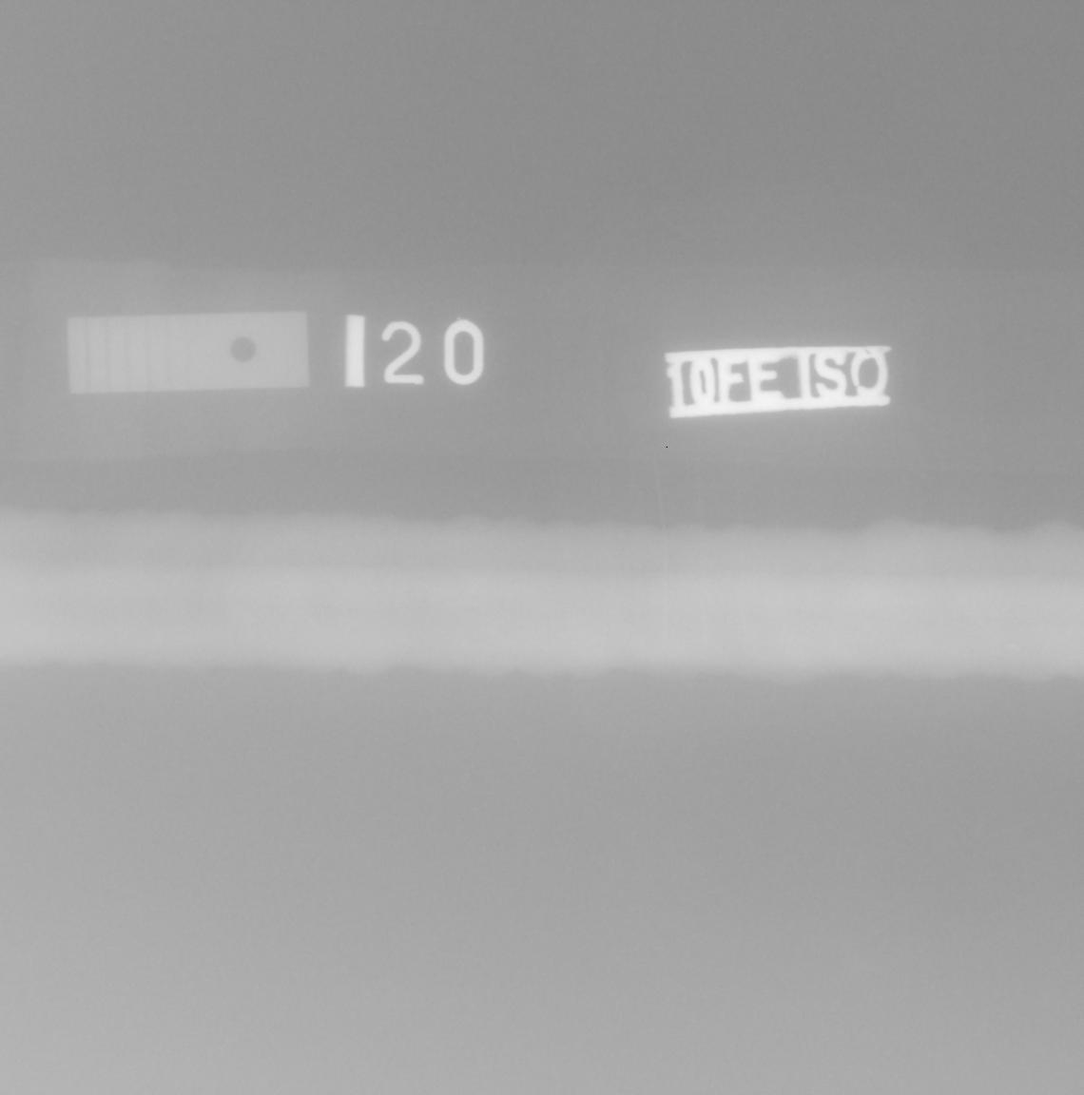Reference Standard 1: (67, 311, 310, 393)
